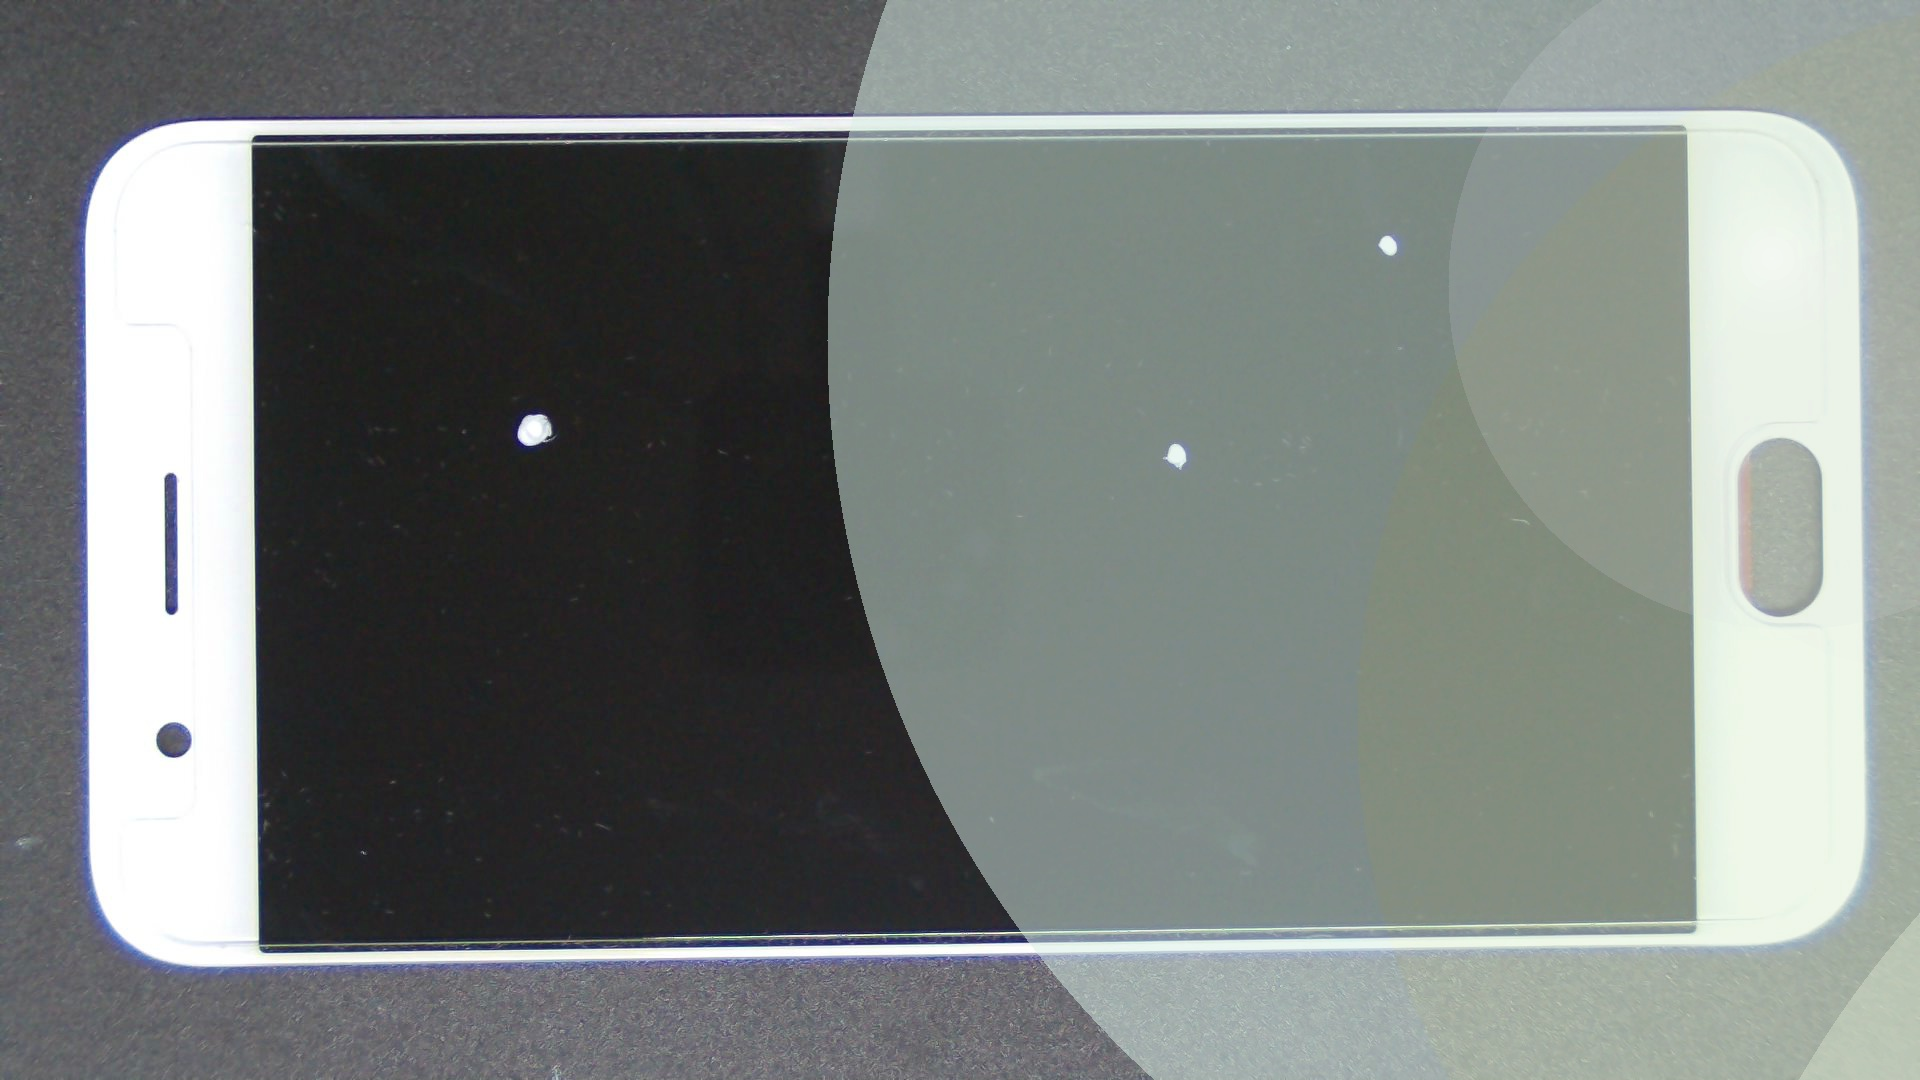oil: (588, 220, 1762, 662), (692, 116, 1920, 352), (265, 206, 794, 618)
